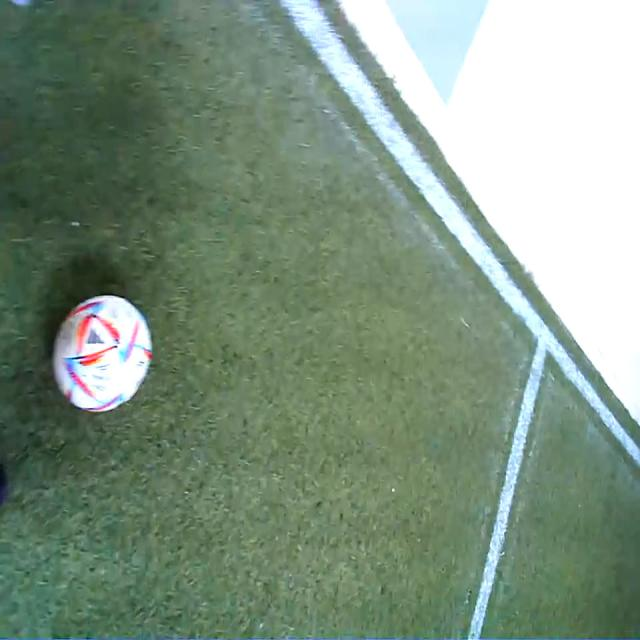ball: (52, 293, 153, 411)
